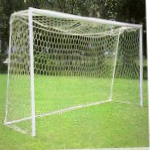goals: (5, 6, 145, 137)
